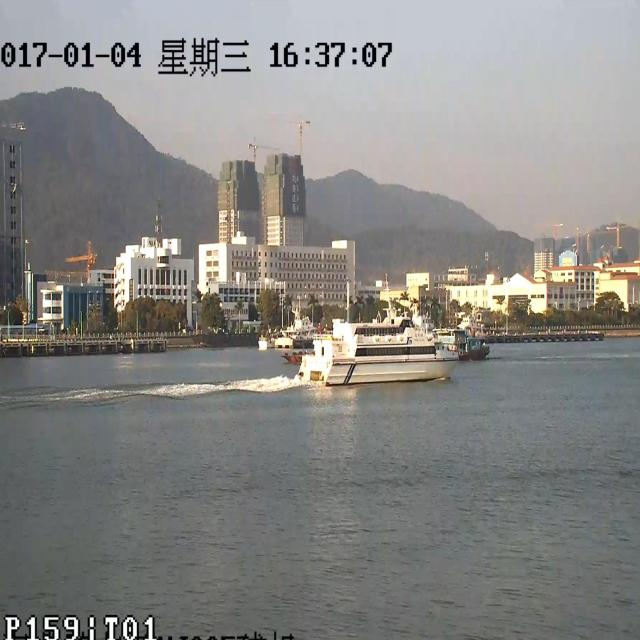passenger ship: (309, 301, 457, 397)
